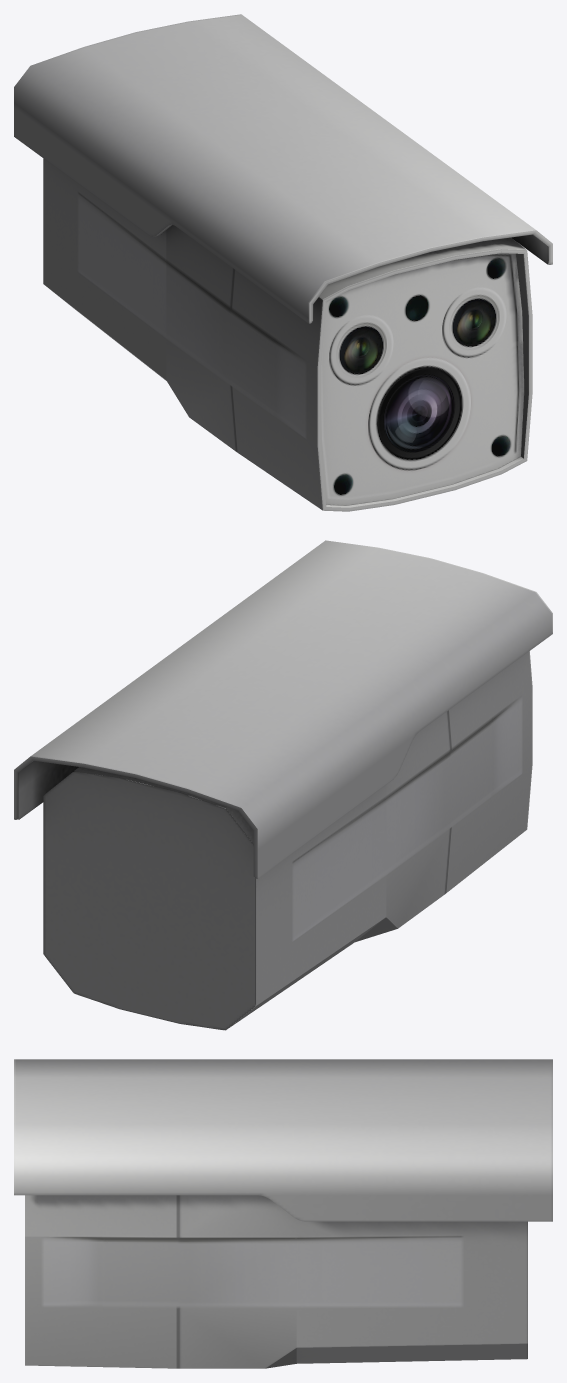
File: qiangshishexiangtou001.FBX
3 views of the same model, one above another, from view 1: azimuth 30°, elevation 25°; view 2: azimuth 150°, elevation 25°; view 3: azimuth 270°, elevation 25° (orthographic). The views are drawn at different scales.
Parts seen in each view (by area): view 1: qiangshishexiangtou001_body; view 2: qiangshishexiangtou001_body; view 3: qiangshishexiangtou001_body.
Boxes of the visible parts, left/top/right/bottom form: qiangshishexiangtou001_body: left=14, top=14, right=552, bottom=511; qiangshishexiangtou001_body: left=14, top=540, right=552, bottom=1030; qiangshishexiangtou001_body: left=14, top=1059, right=552, bottom=1368.
Size of the model in its own units: 6.68 by 6.71 by 14.
